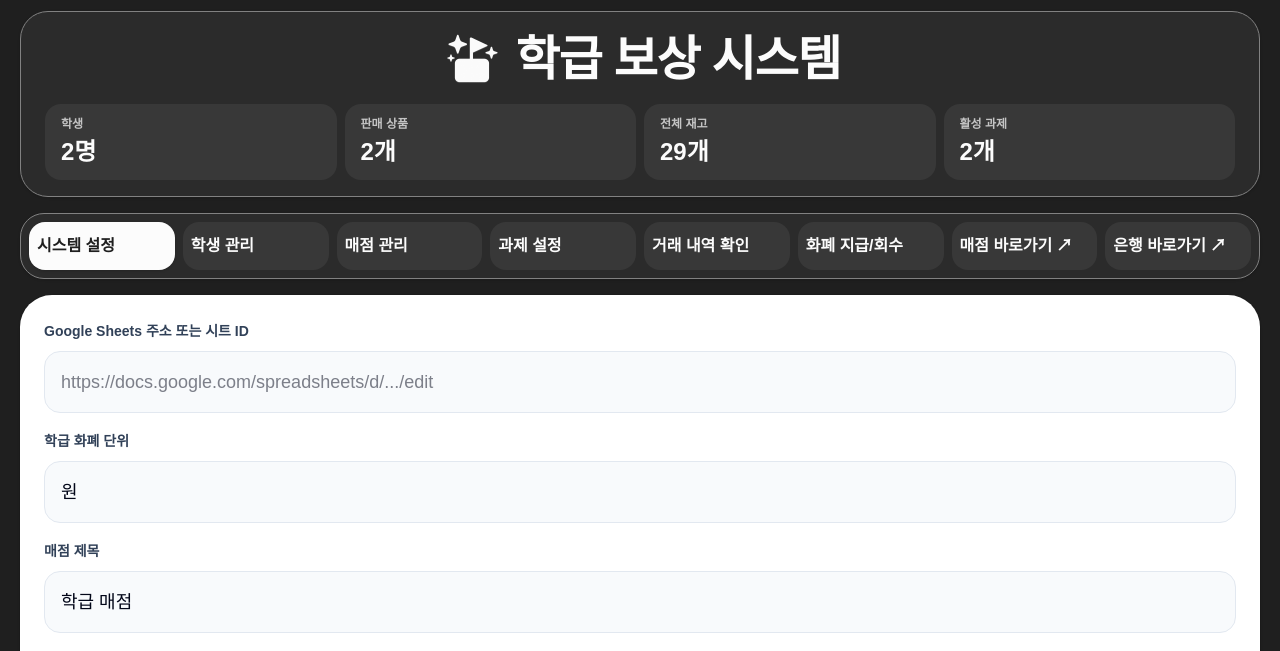
AdminManagePage › makes the admin background inert for history, closes on Escape, and restores the exact opener
Click the tab "과제 설정": (563, 246) [490, 222, 636, 270]
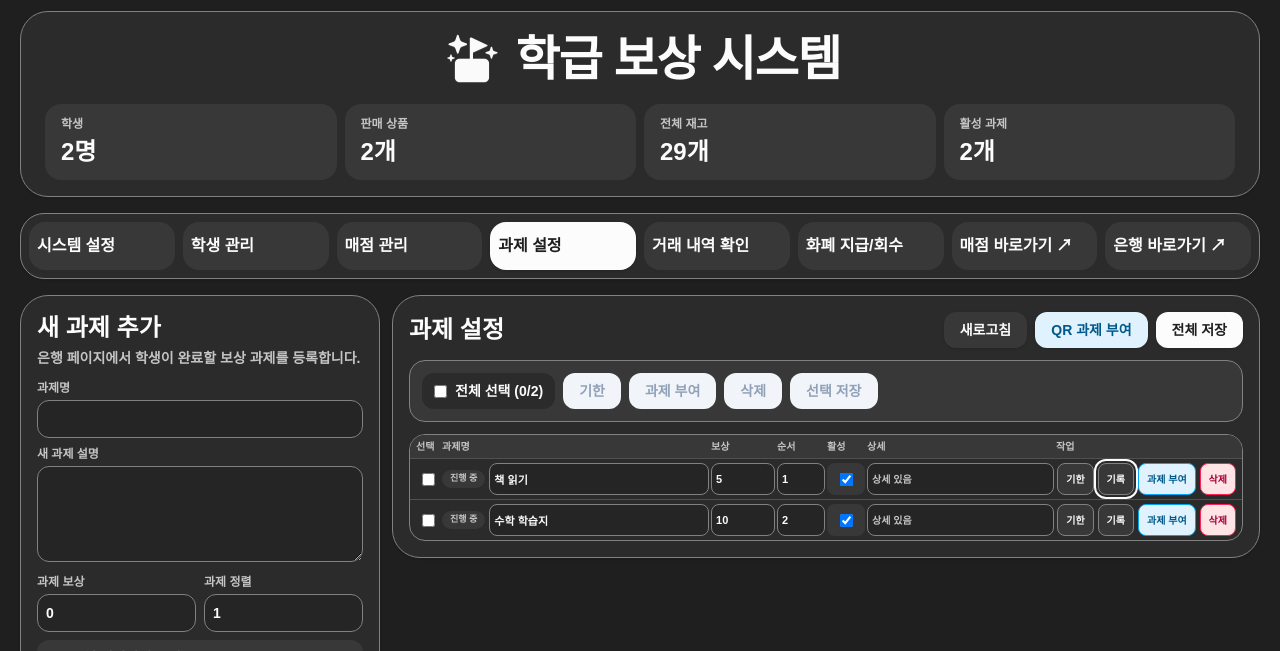
Click the button with aria-label "T001 기록 보기": (1116, 479) [1098, 463, 1134, 495]
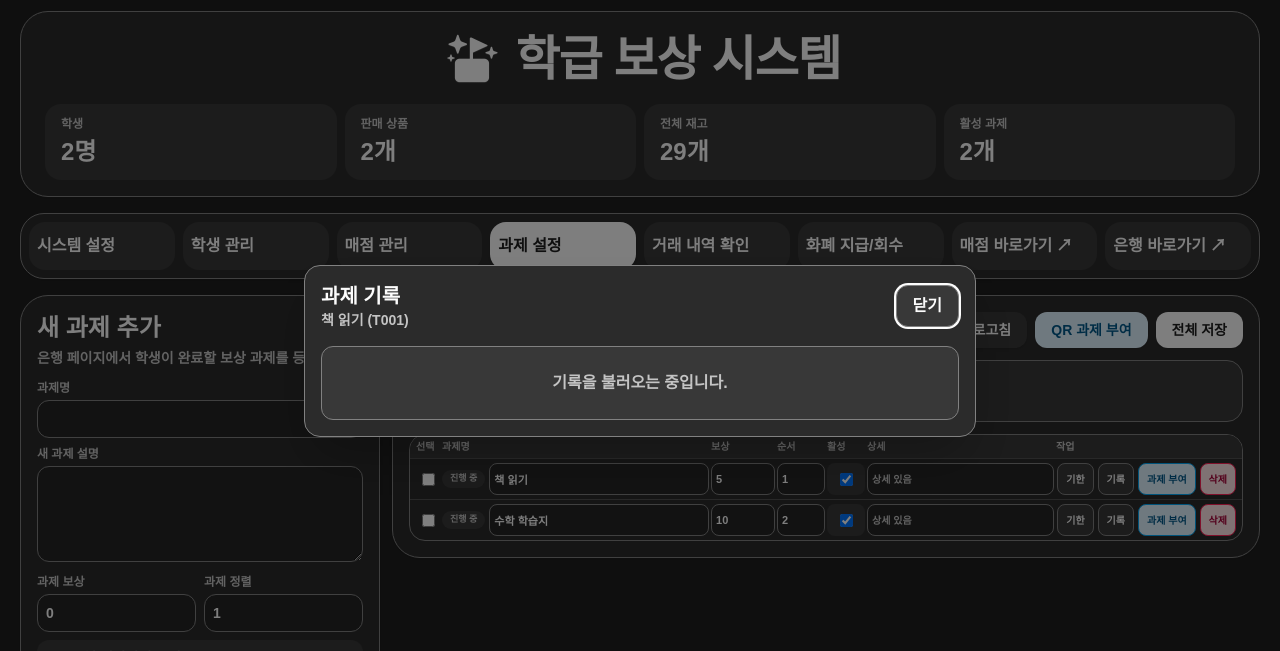
Press Escape in the button "닫기", box [896, 285, 959, 327]
(page scrolled)
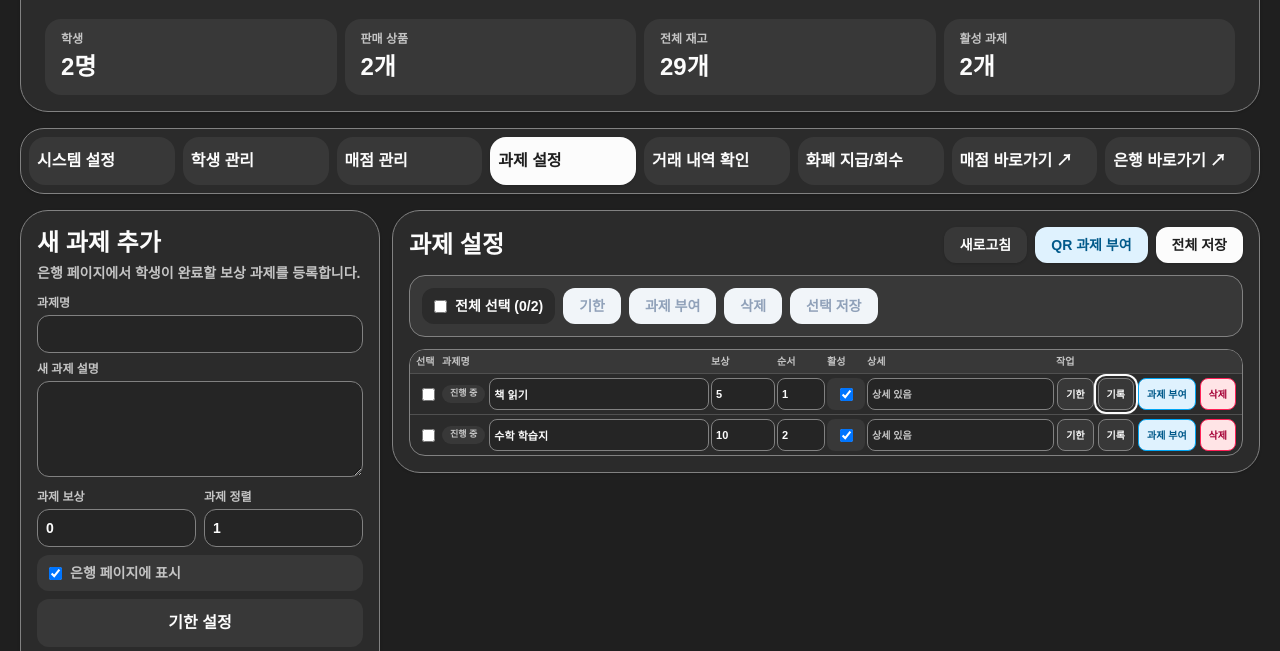
Now the heading "과제 기록" is gone
